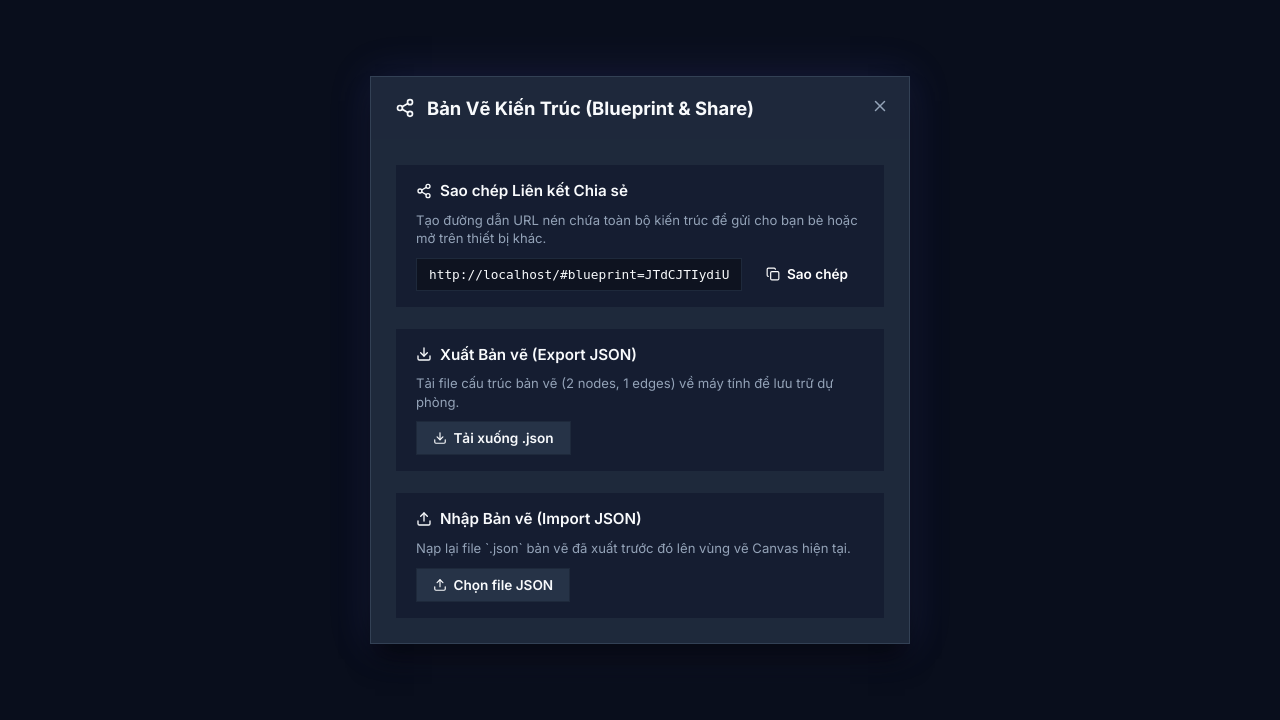
Test: S-018 Architecture Blueprint Export, Import & Share Unit Tests › BlueprintModal UI Component › copies share link and shows feedback
Click the button with aria-label "Sao chép liên kết" at (807, 274), box [750,258,864,290]
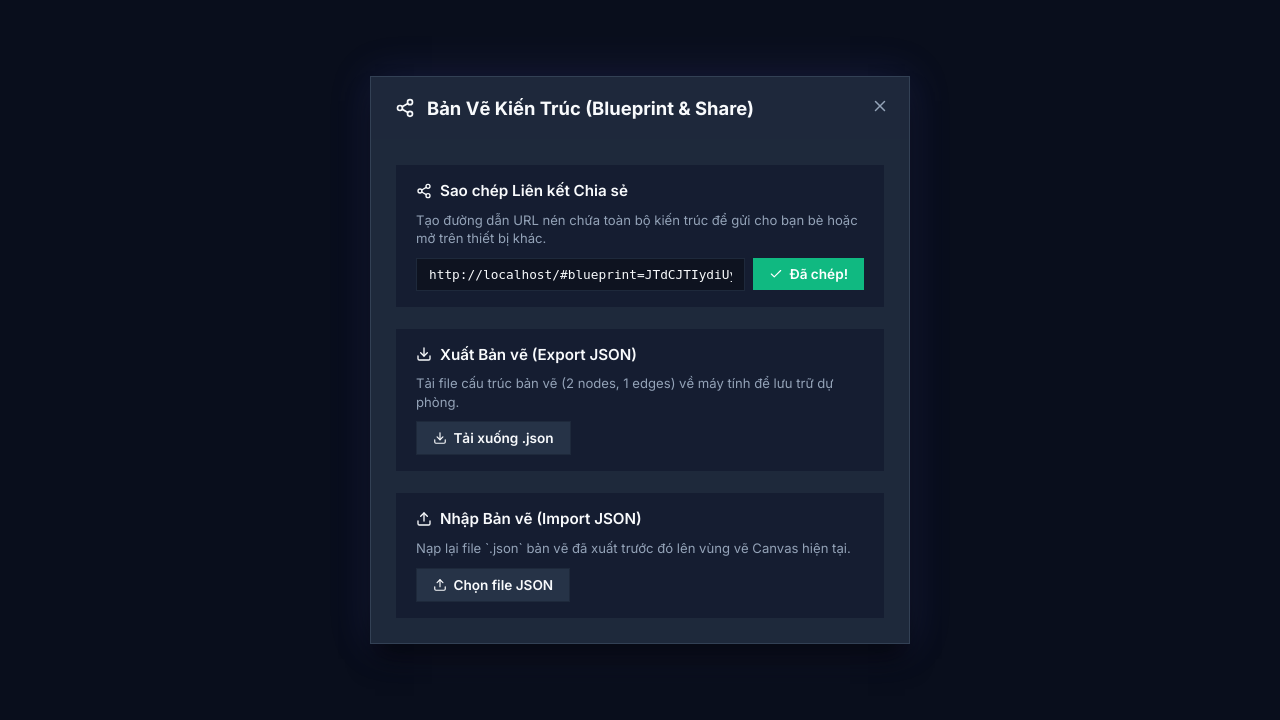
Expected: the button "Đã chép!" is shown, [753,258,864,290]
